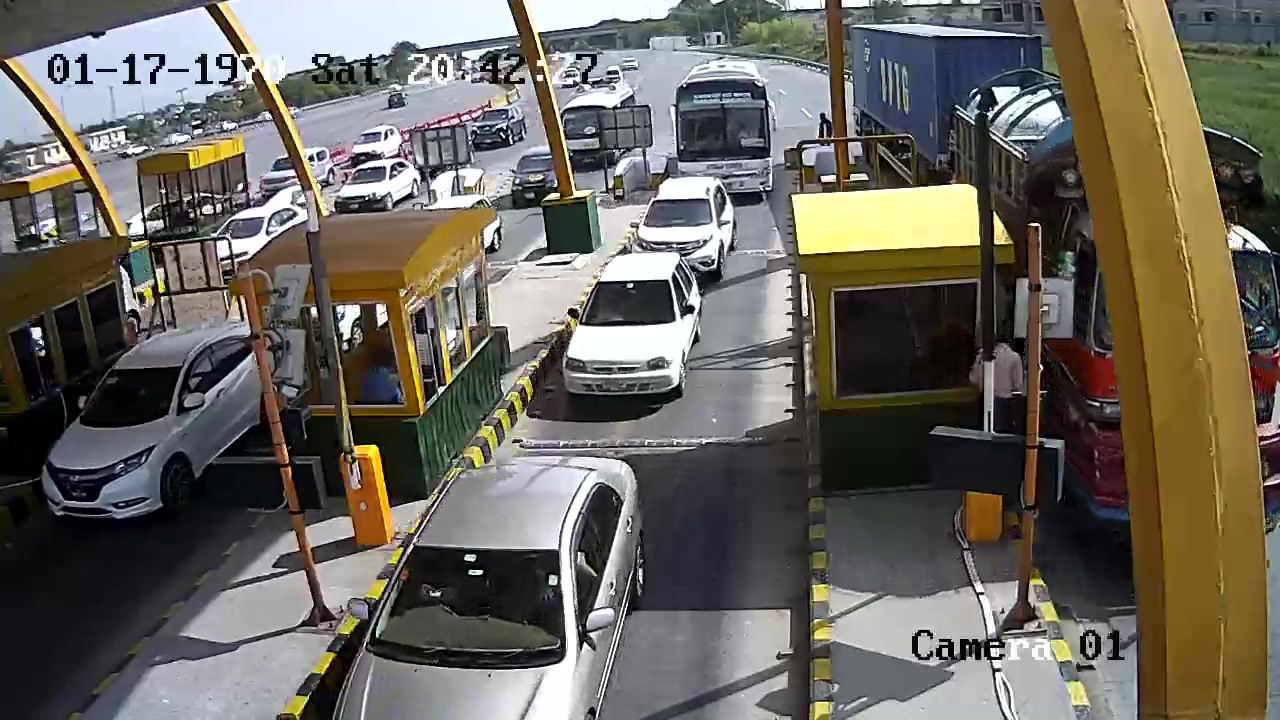F1: (549, 246, 714, 414)
